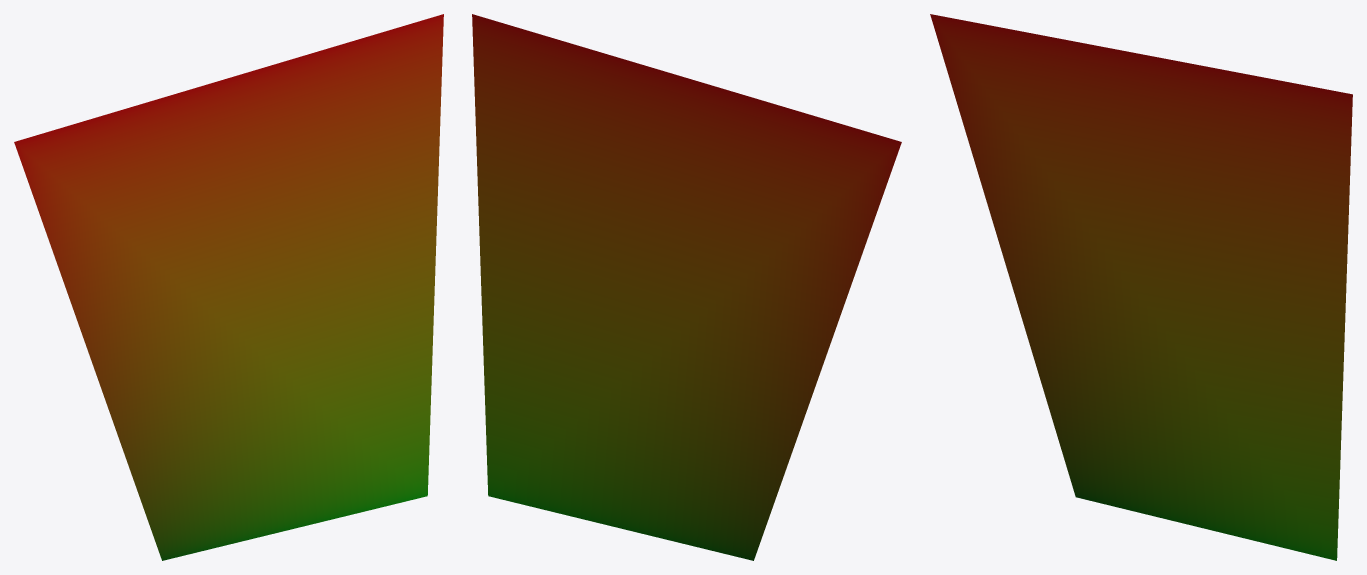
Rendered from Var5_LOD3.fbx.
3 views of the same model, side by side, from view 1: azimuth 30°, elevation 25°; view 2: azimuth 150°, elevation 25°; view 3: azimuth 330°, elevation 25° (orthographic).
Visible parts, largest first — view 1: _9cd5_Var5_LOD3; view 2: _9cd5_Var5_LOD3; view 3: _9cd5_Var5_LOD3.
Boxes of the visible parts, left/top/right/bottom form: _9cd5_Var5_LOD3: left=14, top=14, right=443, bottom=560; _9cd5_Var5_LOD3: left=472, top=14, right=901, bottom=560; _9cd5_Var5_LOD3: left=930, top=14, right=1352, bottom=560.
Bounding box in the file's own units: 58.09 × 61.76 × 1.98e-05.
